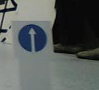forward: (18, 24, 47, 53)
